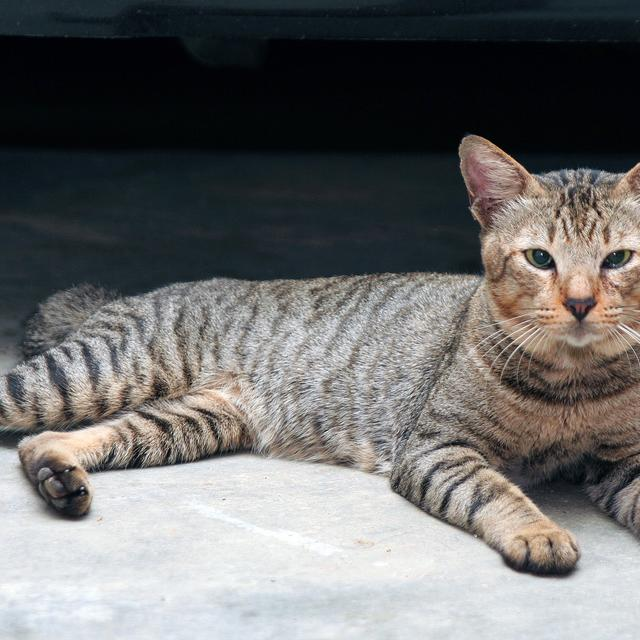animals: (468, 136, 640, 317)
